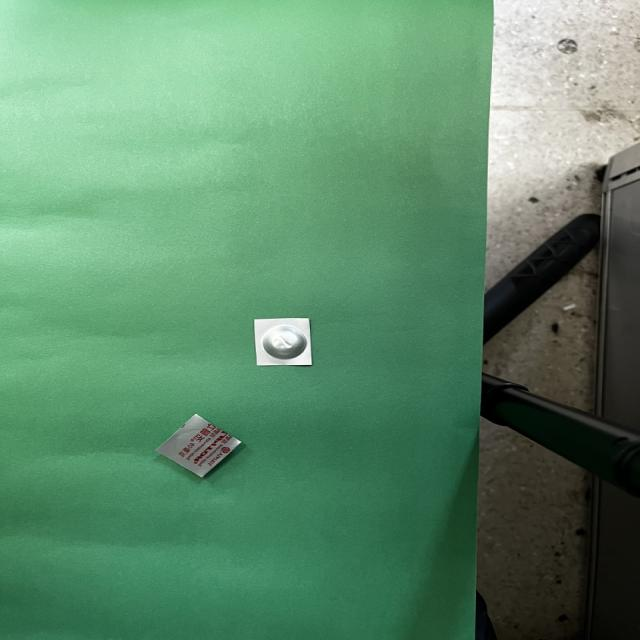Other Objects: (157, 414, 241, 477), (255, 318, 312, 364)
